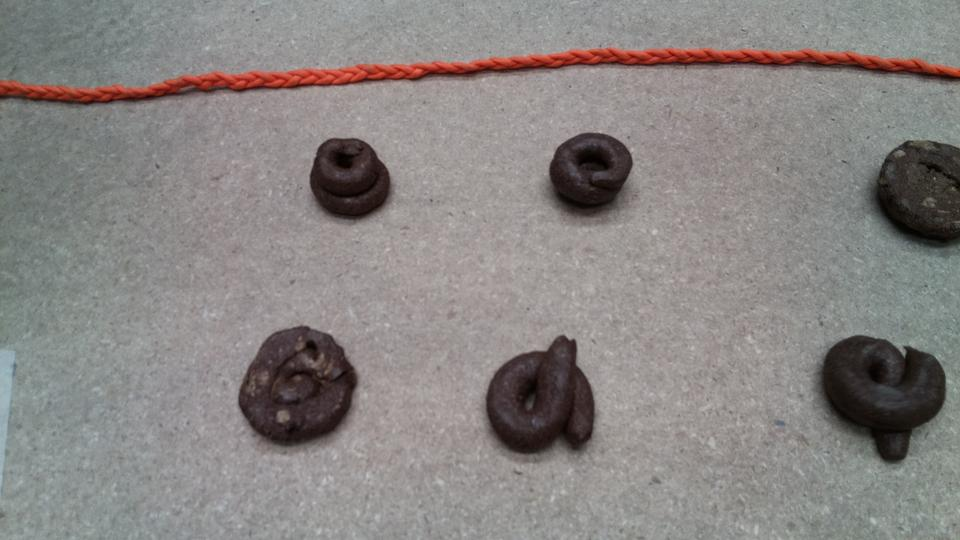poop: (225, 321, 363, 453), (813, 328, 944, 464), (477, 333, 603, 459), (879, 132, 958, 253), (537, 130, 636, 216), (303, 136, 396, 224)
rope: (1, 63, 649, 106), (448, 46, 960, 92)
